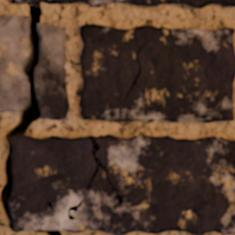brick: (9, 135, 234, 234), (80, 24, 234, 121), (12, 0, 234, 7)
broken_brick: (35, 22, 69, 120), (0, 14, 28, 112)
crack: (0, 2, 42, 232), (67, 135, 126, 221), (34, 229, 61, 234)
